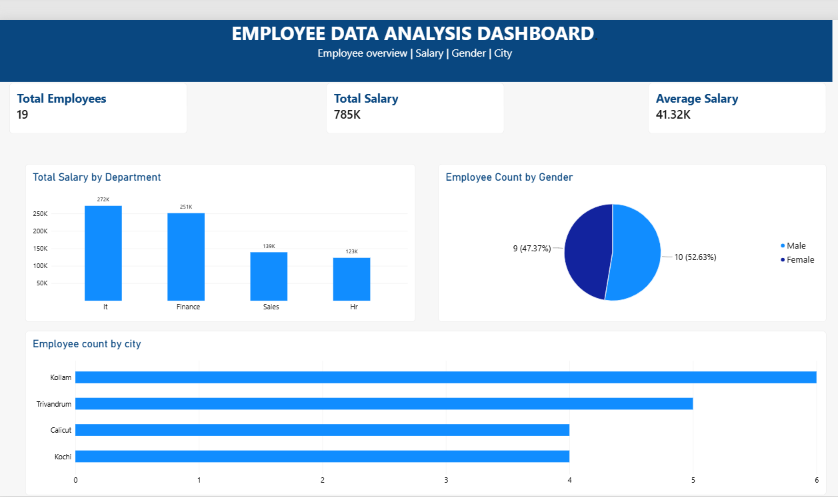

Layout of this report page (visuals, bound fields, positions):
{"tool":"powerbi","page":{"name":"Page 1","canvas":[1920,1080],"ordinal":0},"visuals":[{"type":"textbox","box":[0,0,1896.5,140.8],"z":0},{"type":"cardVisual","fields":{"Data":["Sum(Cleaned Data1.Salary)"]},"box":[747.3,143.1,404,115],"z":3},{"type":"cardVisual","title":"Average Salary","fields":{"Data":["Avg(Cleaned Data1.Salary)"]},"box":[1478.6,143.1,404,115.8],"z":4},{"type":"clusteredColumnChart","title":"Total Salary by Department","fields":{"Category":["Cleaned Data1.Department"],"Y":["Sum(Cleaned Data1.Salary)"]},"box":[63.6,327.1,885.8,358.9],"z":5},{"type":"clusteredBarChart","title":"Employee count by city","fields":{"Category":["Cleaned Data1.City"],"Y":["CountNonNull(Cleaned Data1.Name)"]},"box":[63.6,706.4,1819.3,372.5],"z":6},{"type":"pieChart","title":"Employee Count  by Gender","fields":{"Category":["Cleaned Data1.Gender"],"Y":["CountNonNull(Cleaned Data1.Name)"]},"box":[1001.6,327.1,881.3,358.9],"z":7},{"type":"cardVisual","fields":{"Data":["CountNonNull(Cleaned Data1.Name)"]},"box":[27.3,143.1,404.3,115.8],"z":8}]}

Visuals, with their boxes on the page's 1920x1080 design canvas (x1, y1, x2, y2). These are canvas units, not pixel positions in the 838x497 screenshot, which may show the page scaled, cropped or inside an application window:
textbox: box(0, 0, 1896, 141)
cardVisual - Sum(Cleaned Data1.Salary): box(747, 143, 1151, 258)
"Average Salary" cardVisual: box(1479, 143, 1883, 259)
"Total Salary by Department" clusteredColumnChart: box(64, 327, 949, 686)
"Employee count by city" clusteredBarChart: box(64, 706, 1883, 1079)
"Employee Count  by Gender" pieChart: box(1002, 327, 1883, 686)
cardVisual - CountNonNull(Cleaned Data1.Name): box(27, 143, 432, 259)
